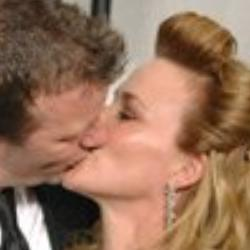face: (71, 9, 248, 243), (3, 1, 120, 204)
